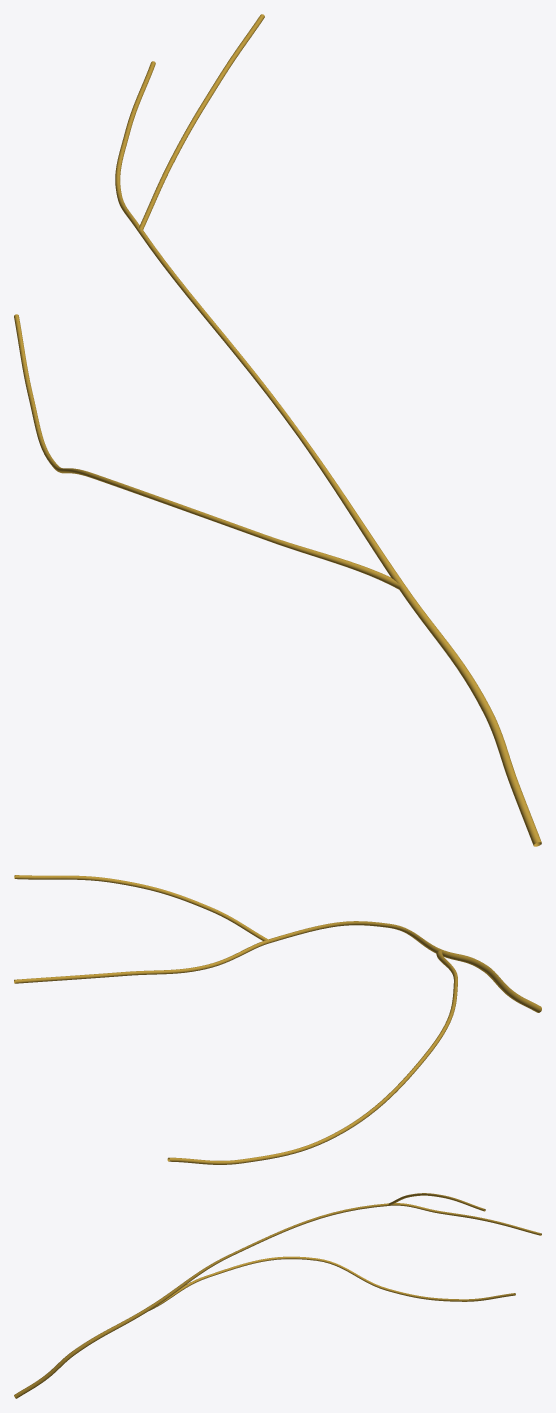
The picture shows the model from 3 angles, top to bottom: view 1: azimuth 30°, elevation 25°; view 2: azimuth 150°, elevation 25°; view 3: azimuth 270°, elevation 25°; orthographic projection. The views are drawn at different scales.
Parts seen in each view (by area): view 1: 右侧胸背神经; view 2: 右侧胸背神经; view 3: 右侧胸背神经.
Boxes of the visible parts, bbox=[...] form: 右侧胸背神经: bbox=[14, 14, 541, 846]; 右侧胸背神经: bbox=[14, 875, 541, 1164]; 右侧胸背神经: bbox=[14, 1193, 541, 1398].
Size of the model in its own units: 0.0902 by 0.1164 by 0.2372.
